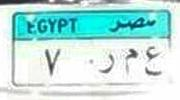7: (43, 45, 64, 79)
ain: (142, 44, 163, 78)
meem: (120, 44, 140, 76)
raa: (97, 50, 117, 77)
